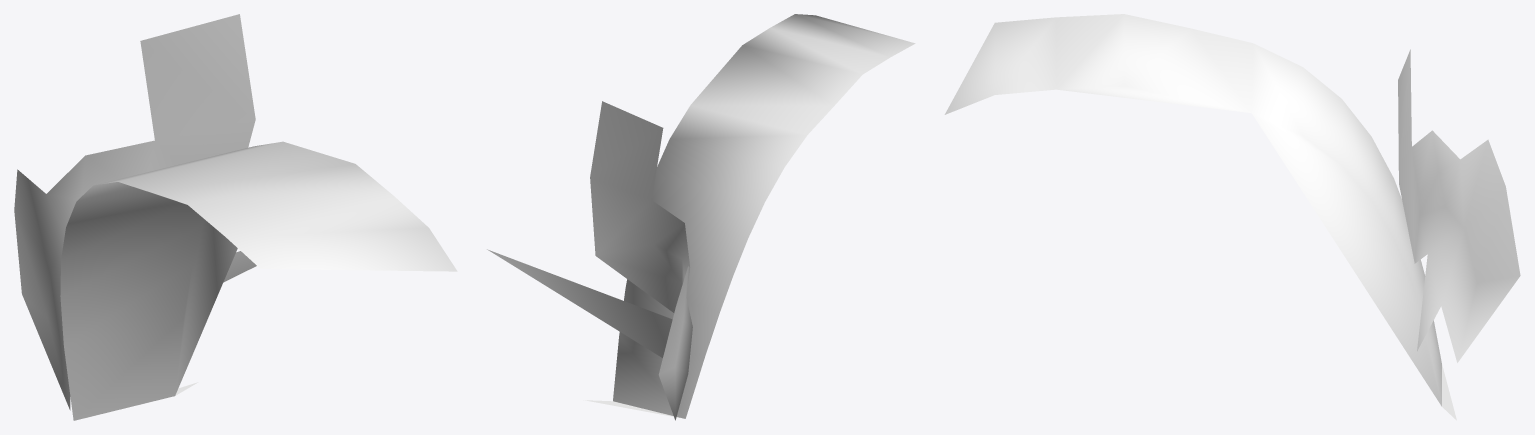
3 renders of one model, left to right at view 1: azimuth 30°, elevation 25°; view 2: azimuth 150°, elevation 25°; view 3: azimuth 270°, elevation 25°, orthographic. The views are drawn at different scales.
Size of the model in its own units: 0.4183 by 0.4346 by 0.6599.
1 material, 1 textured.
